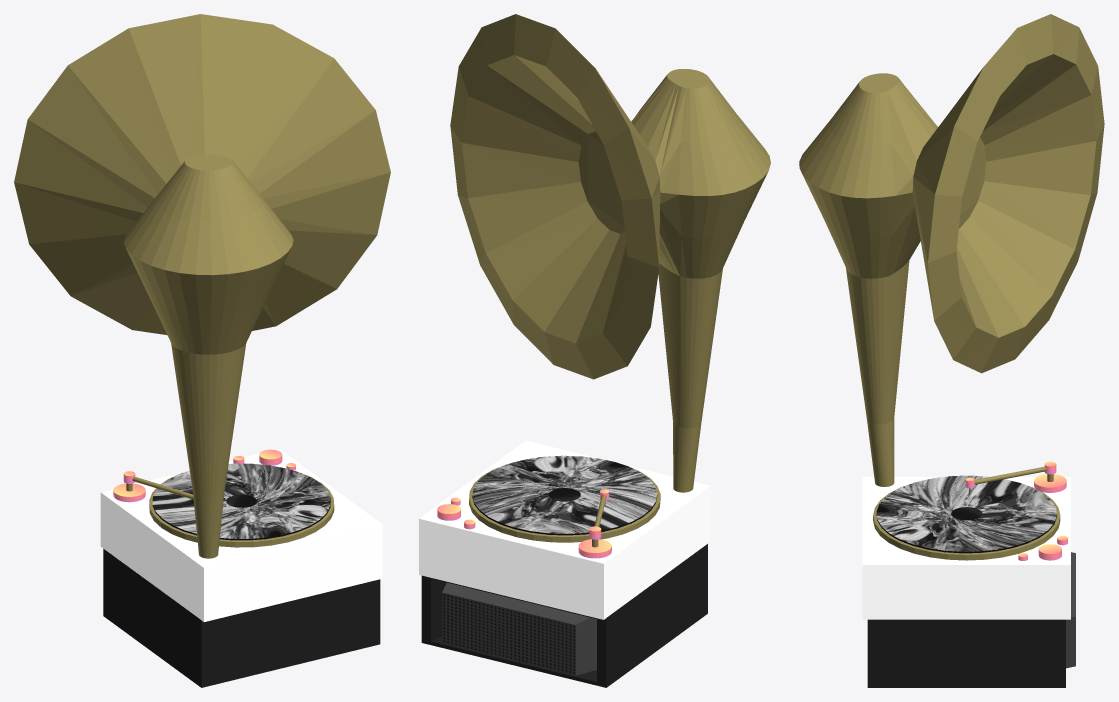
File: boiteAMusic.glb
3 renders of one model, left to right at view 1: azimuth 30°, elevation 25°; view 2: azimuth 150°, elevation 25°; view 3: azimuth 270°, elevation 25°, orthographic. The views are drawn at different scales.
Parts seen in each view (by area): view 1: Cylinder.065, platine, son, galette, Cylinder.012; view 2: Cylinder.065, platine, son, galette, Cylinder.012; view 3: Cylinder.065, platine, son, galette, Cylinder.012, Cylinder.058.
Boxes of the visible parts, box(x1,y1,x2,y2) form: Cylinder.065: box(14, 14, 390, 558); platine: box(100, 449, 382, 621); son: box(103, 549, 380, 687); galette: box(152, 463, 330, 540); Cylinder.012: box(149, 473, 334, 547); Cylinder.065: box(450, 14, 770, 492); platine: box(419, 440, 710, 619); son: box(421, 544, 707, 687); galette: box(472, 455, 657, 535); Cylinder.012: box(469, 464, 660, 542); Cylinder.065: box(799, 14, 1104, 486); platine: box(862, 477, 1070, 619); son: box(867, 552, 1075, 687); galette: box(876, 475, 1056, 553); Cylinder.012: box(873, 482, 1060, 560); Cylinder.058: box(1034, 474, 1066, 492).
Size of the model in its own units: 3.24 by 6.44 by 2.93.
5 materials, 3 textured.
